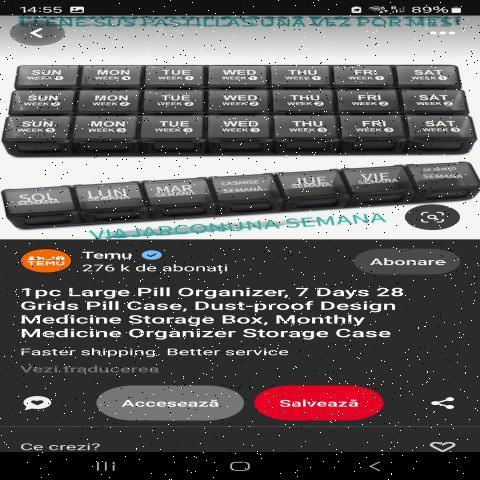PillBox: (0, 50, 464, 168)
